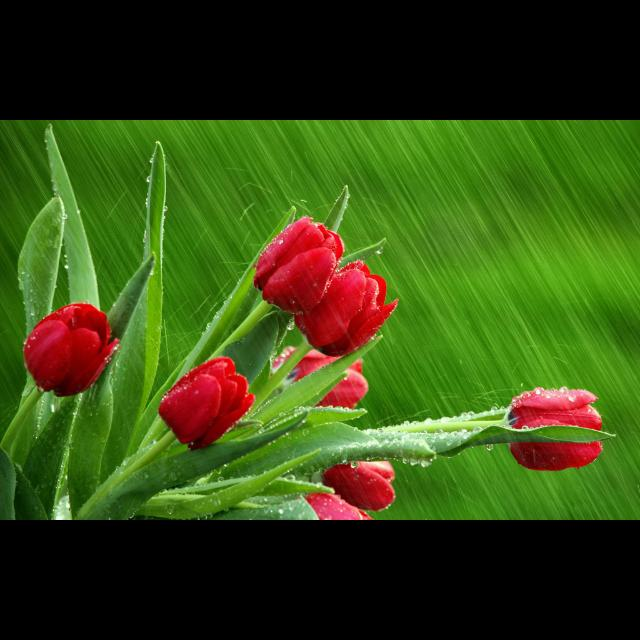Flower: (289, 260, 399, 360), (158, 356, 258, 456), (252, 214, 348, 314), (501, 386, 603, 472), (24, 302, 106, 398), (271, 348, 369, 414), (320, 461, 394, 513), (302, 492, 372, 520)
